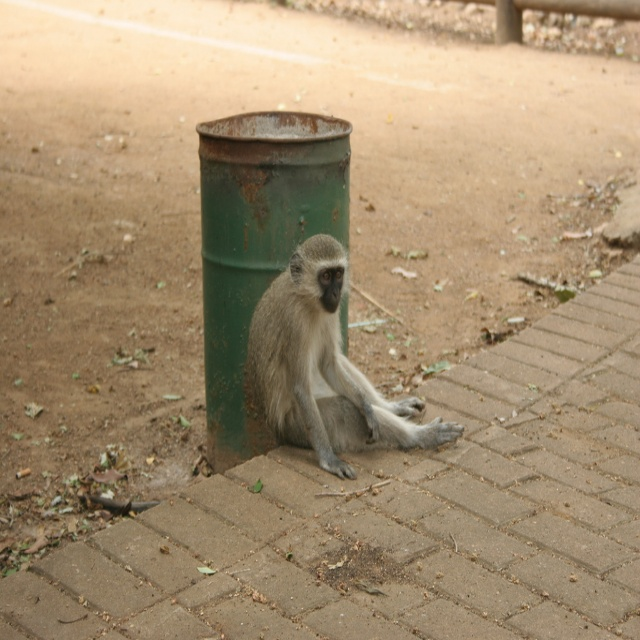Monkey: (248, 234, 465, 483)
